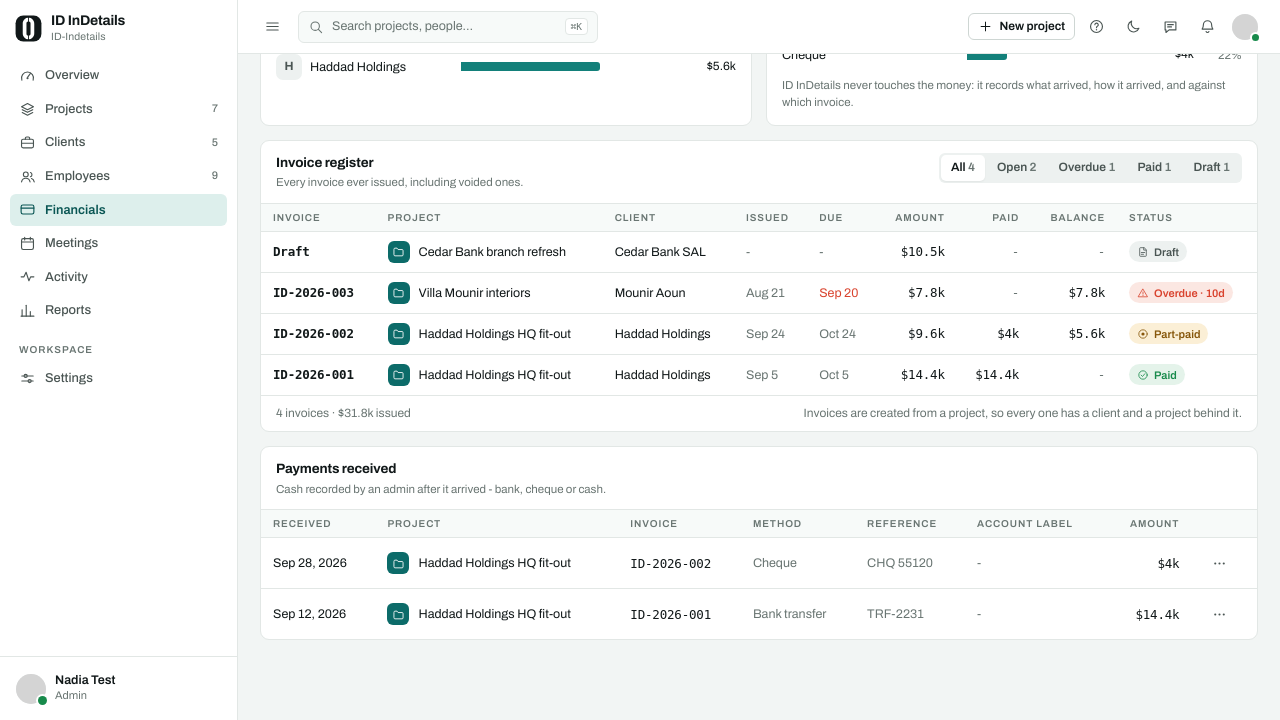
Test: Correcting a payment › voids one recorded in error, with a reason
(page scrolled)
Click the button named "Payment of Sep 28 actions": (1219, 563) [1203,547,1235,579]
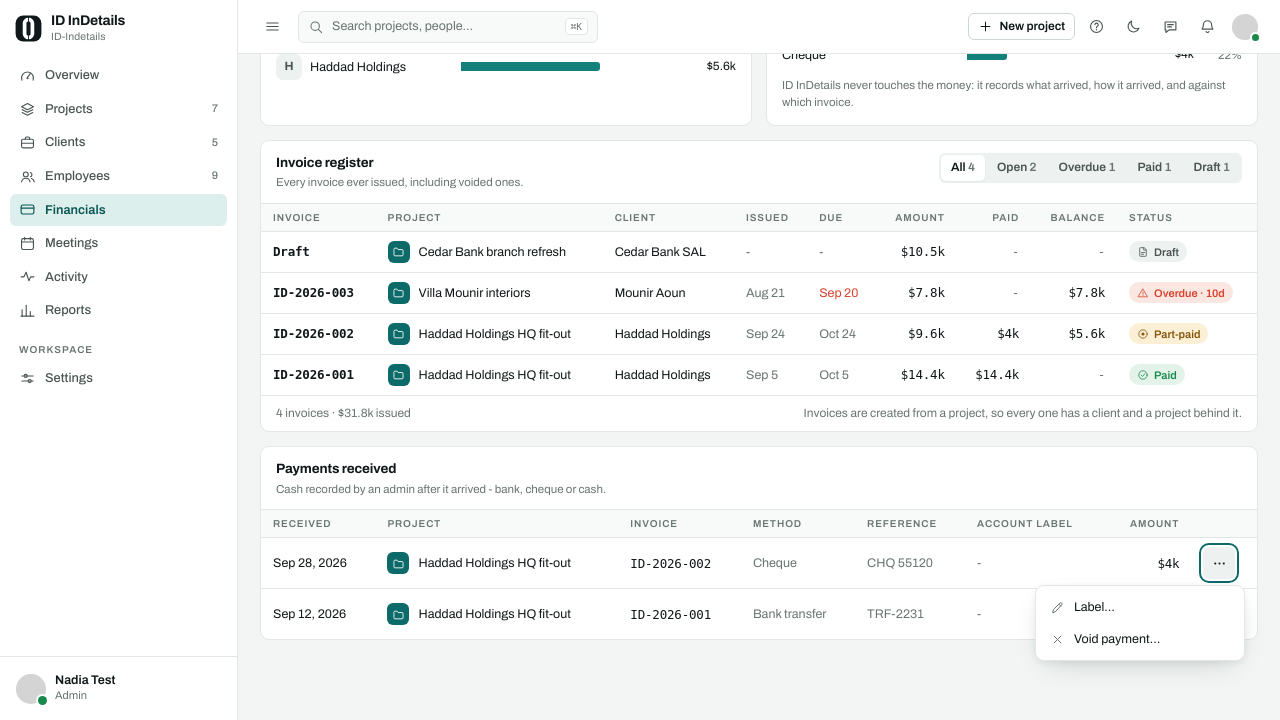
Click the button "Void payment…": (1140, 639) [1041,623,1239,655]
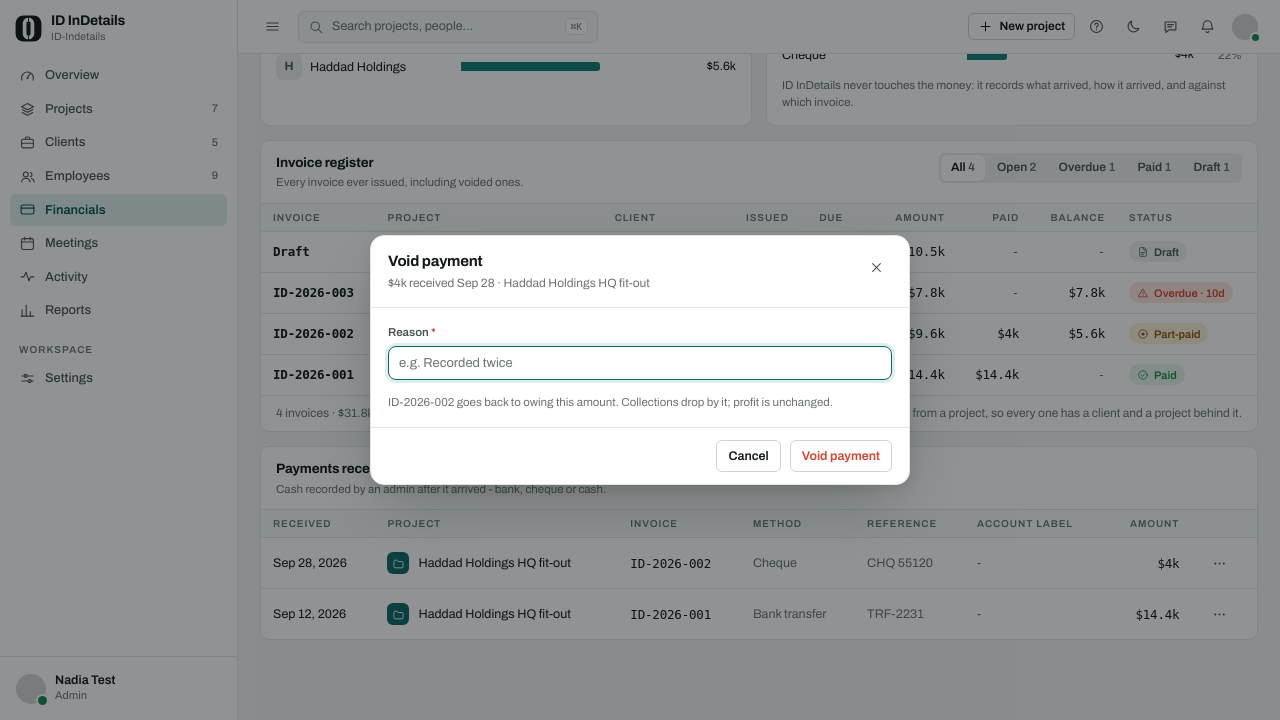
the reason is required, and pressing Void without one says so
Click the button "Void payment": (841, 456) [790,440,892,472]
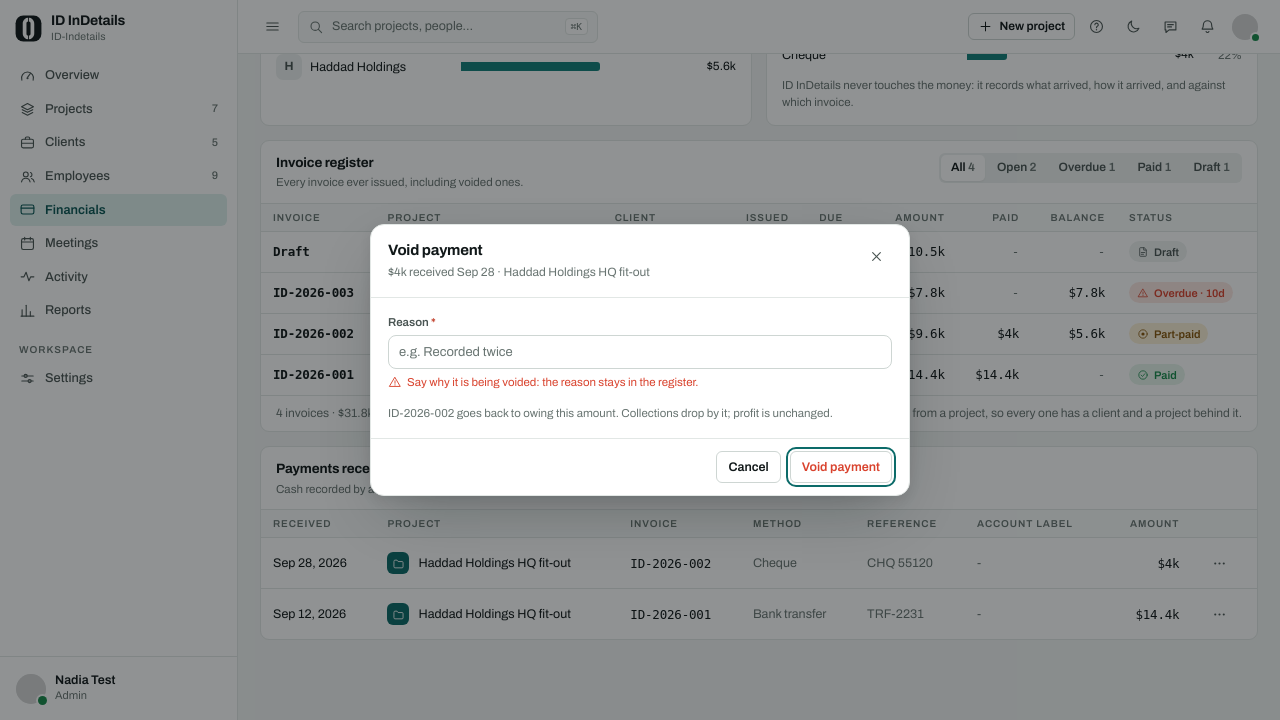
expect the text "Say why it is being voided: the reason stays in the register." is shown: met, box [407,374,698,391]
In the field labelled "Reason": (640, 352) [388,335,892,369], type "Recorded twice"
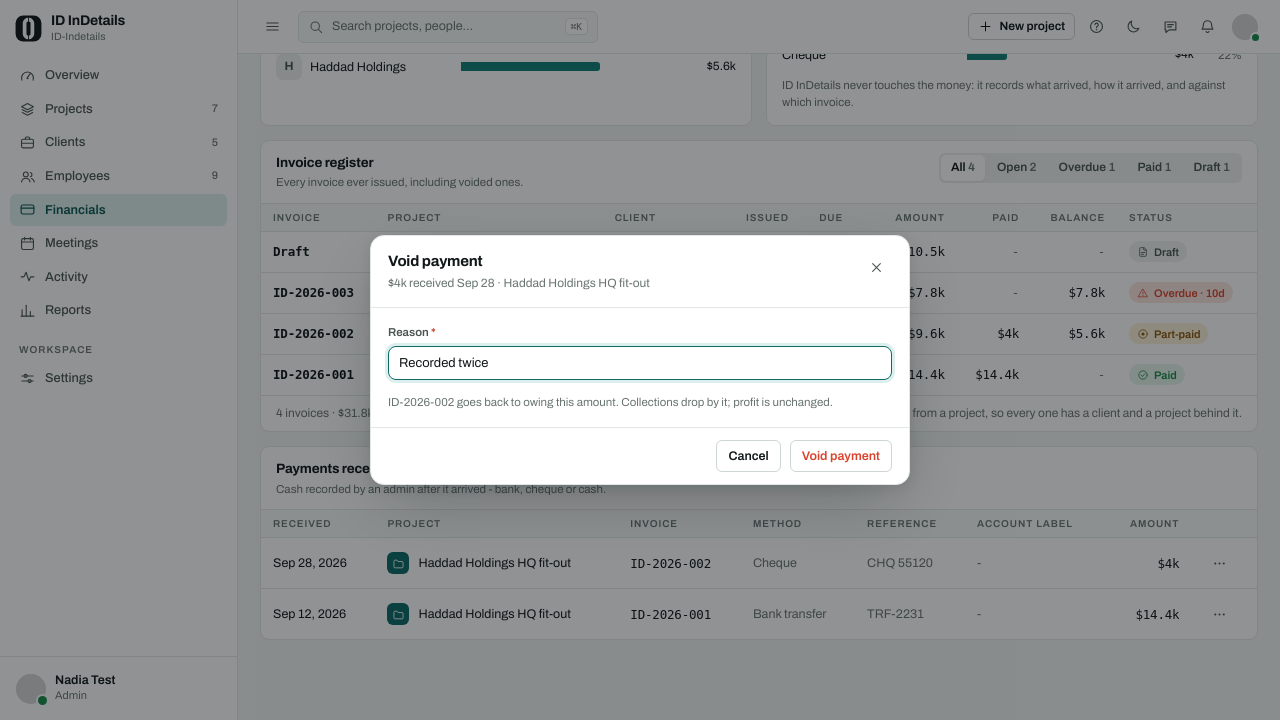
Click the button "Void payment": (841, 456) [790,440,892,472]
(page scrolled)
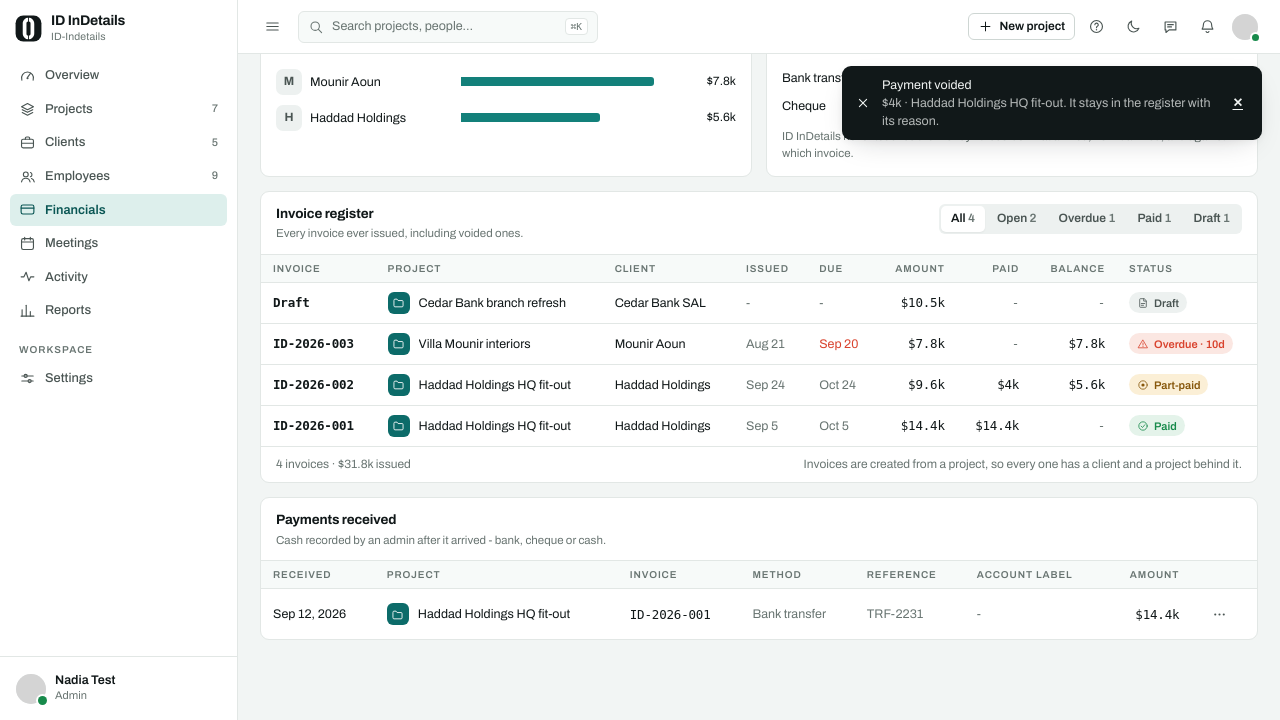
expect the text "Payment voided" is shown: met, box [882,78,972,92]
